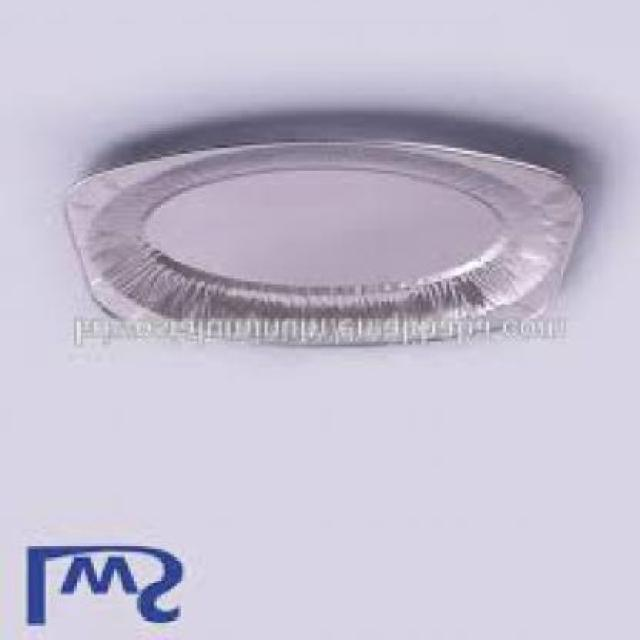METAL: (63, 140, 580, 352)
